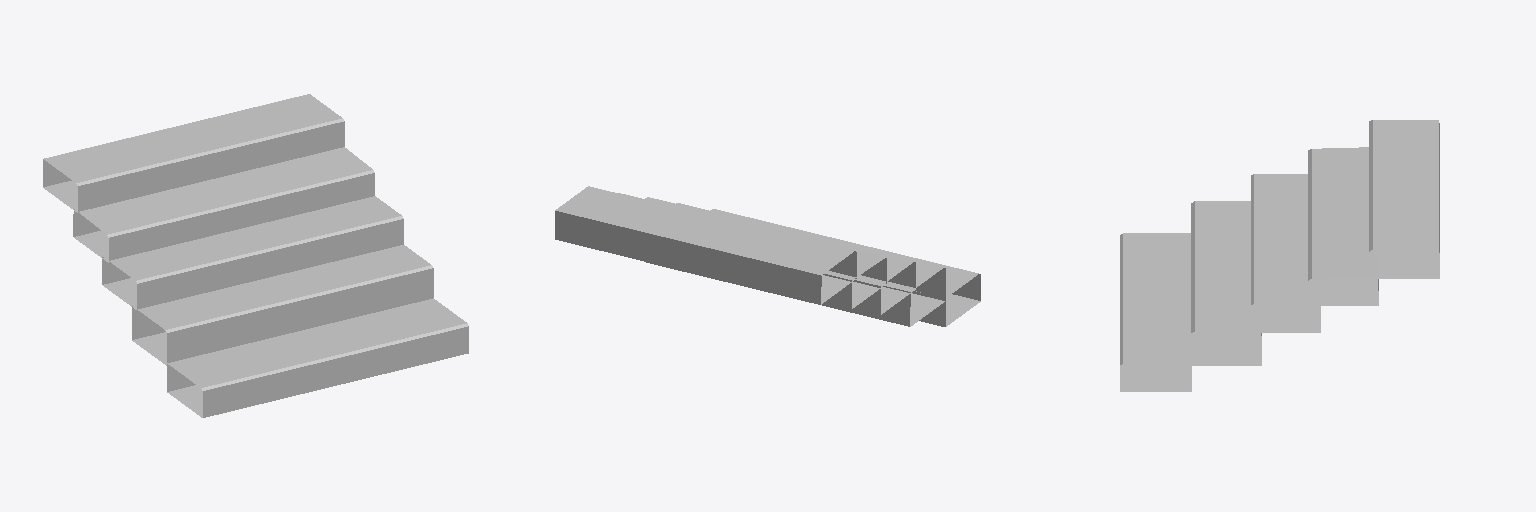
File: Stairs_Exterior_Straight_Center.obj
3 views of the same model, side by side, from view 1: azimuth 30°, elevation 25°; view 2: azimuth 150°, elevation 25°; view 3: azimuth 270°, elevation 25° (orthographic).
Visible parts, largest first — view 1: Stairs_Exterior_Straight_Center; view 2: Stairs_Exterior_Straight_Center; view 3: Stairs_Exterior_Straight_Center.
Part boxes in pixels (left/top/right/bottom): Stairs_Exterior_Straight_Center: left=43, top=94, right=468, bottom=417; Stairs_Exterior_Straight_Center: left=555, top=186, right=980, bottom=326; Stairs_Exterior_Straight_Center: left=1120, top=120, right=1439, bottom=391.
Bounding box in the file's own units: 2 × 1.02 × 2.08.